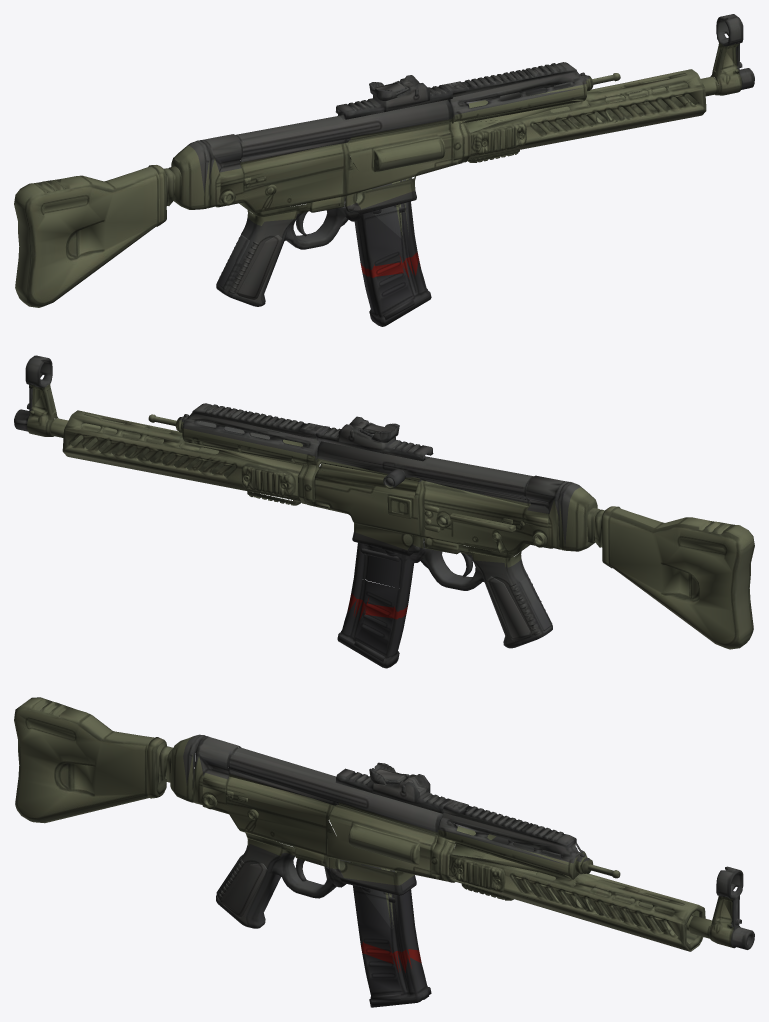
The model's file is stg44-2044-astra-b.glb.
3 renders of one model, top to bottom at view 1: azimuth 30°, elevation 25°; view 2: azimuth 150°, elevation 25°; view 3: azimuth 330°, elevation 25°, orthographic.
Visible parts, largest first — view 1: receiver_body, receiver_steel, stock_fixed_body, mag_25_black, mag_25_red; view 2: receiver_body, receiver_steel, stock_fixed_body, mag_25_black, mag_25_red; view 3: receiver_body, receiver_steel, stock_fixed_body, mag_25_black, muzzle_tip_steel, mag_25_red.
Boxes of the visible parts, bbox=[...] form: receiver_body: bbox=[198, 42, 741, 236]; receiver_steel: bbox=[186, 14, 743, 306]; stock_fixed_body: bbox=[14, 145, 200, 307]; mag_25_black: bbox=[342, 180, 431, 326]; mag_25_red: bbox=[360, 252, 420, 278]; receiver_body: bbox=[27, 383, 569, 567]; receiver_steel: bbox=[25, 355, 581, 648]; stock_fixed_body: bbox=[568, 487, 754, 649]; mag_25_black: bbox=[337, 540, 426, 668]; mag_25_red: bbox=[347, 593, 407, 620]; receiver_body: bbox=[182, 754, 733, 951]; receiver_steel: bbox=[183, 734, 741, 928]; stock_fixed_body: bbox=[14, 697, 192, 823]; mag_25_black: bbox=[329, 869, 431, 1007]; muzzle_tip_steel: bbox=[726, 870, 754, 949]; mag_25_red: bbox=[361, 941, 421, 972].
Size of the model in its own units: 0.9604 by 0.2974 by 0.0767.
Materials: 4 (4 with a texture image).
